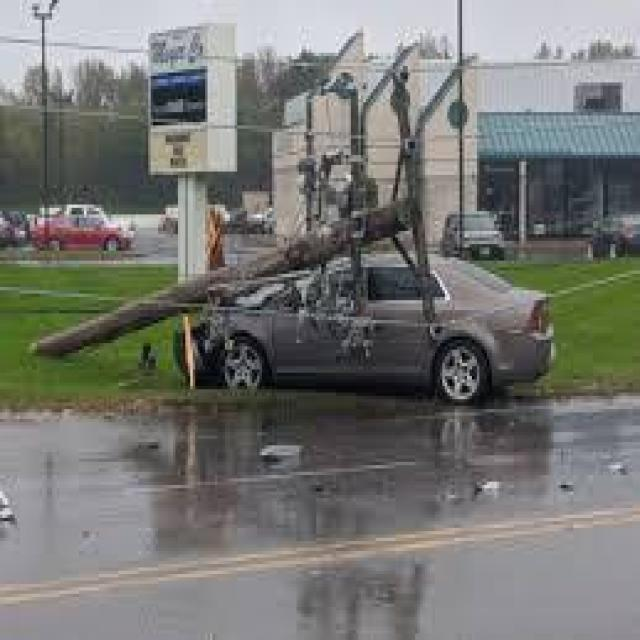severe: (178, 196, 558, 398)
